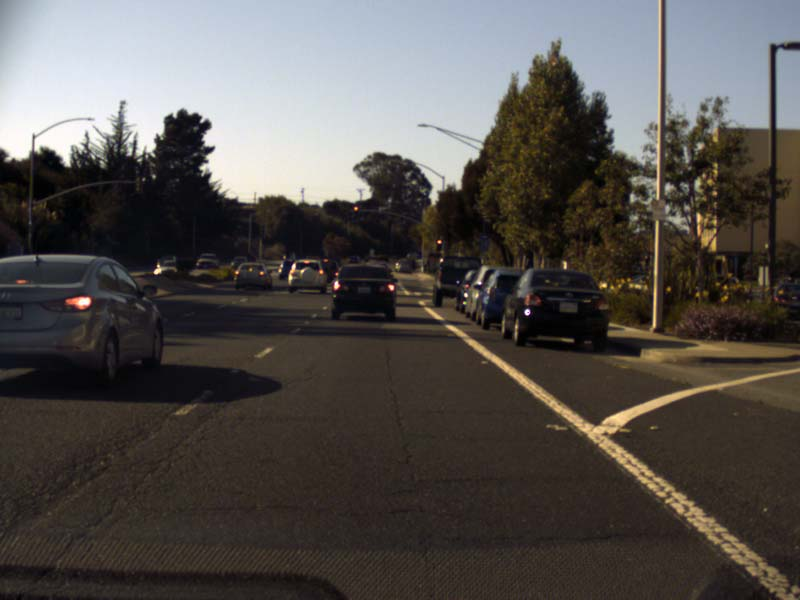Red: (352, 206, 357, 218), (436, 238, 441, 249)
